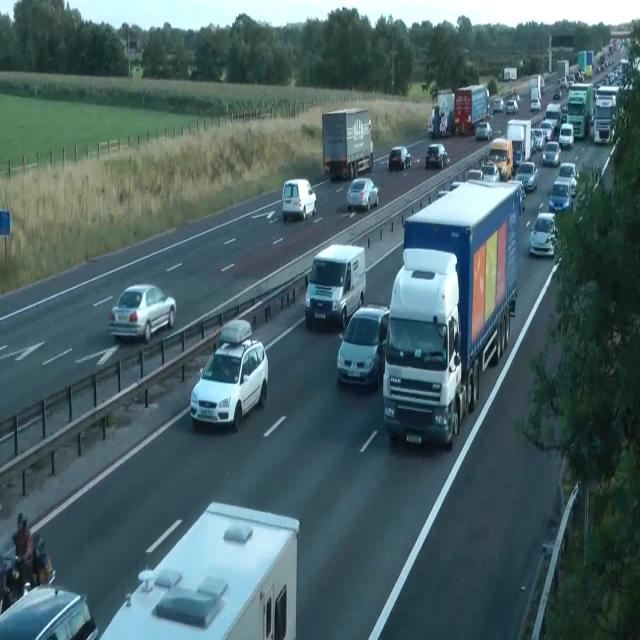bus: (190, 318, 268, 430), (0, 584, 98, 639), (336, 303, 390, 390), (108, 283, 176, 342), (282, 178, 316, 221), (528, 211, 558, 257), (541, 516, 569, 558), (346, 177, 379, 211), (555, 162, 579, 196), (514, 161, 538, 192), (549, 180, 571, 213), (425, 143, 449, 169), (388, 146, 411, 170), (542, 140, 561, 166), (436, 180, 462, 198), (594, 119, 612, 144), (558, 123, 574, 149), (480, 162, 500, 182), (532, 127, 546, 151), (540, 119, 554, 141), (475, 122, 492, 140), (464, 168, 482, 183), (512, 150, 523, 172), (492, 98, 504, 113), (506, 100, 518, 114), (449, 180, 461, 192), (530, 98, 540, 111), (553, 90, 561, 100)
jeep: (304, 243, 366, 328)
minibus: (382, 179, 522, 449), (99, 500, 299, 639), (322, 108, 374, 180), (454, 84, 490, 134), (594, 85, 618, 144), (567, 82, 594, 134), (427, 88, 455, 138), (506, 118, 532, 168), (485, 137, 513, 181), (530, 74, 544, 110), (578, 50, 594, 76), (497, 66, 517, 82), (557, 60, 569, 80)
